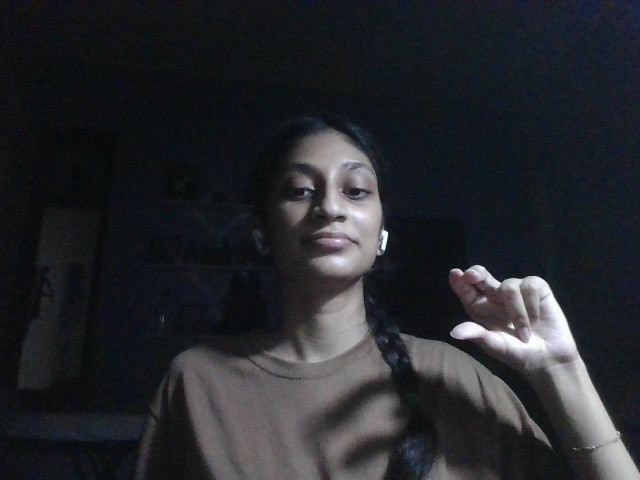no: (443, 265, 580, 374)
